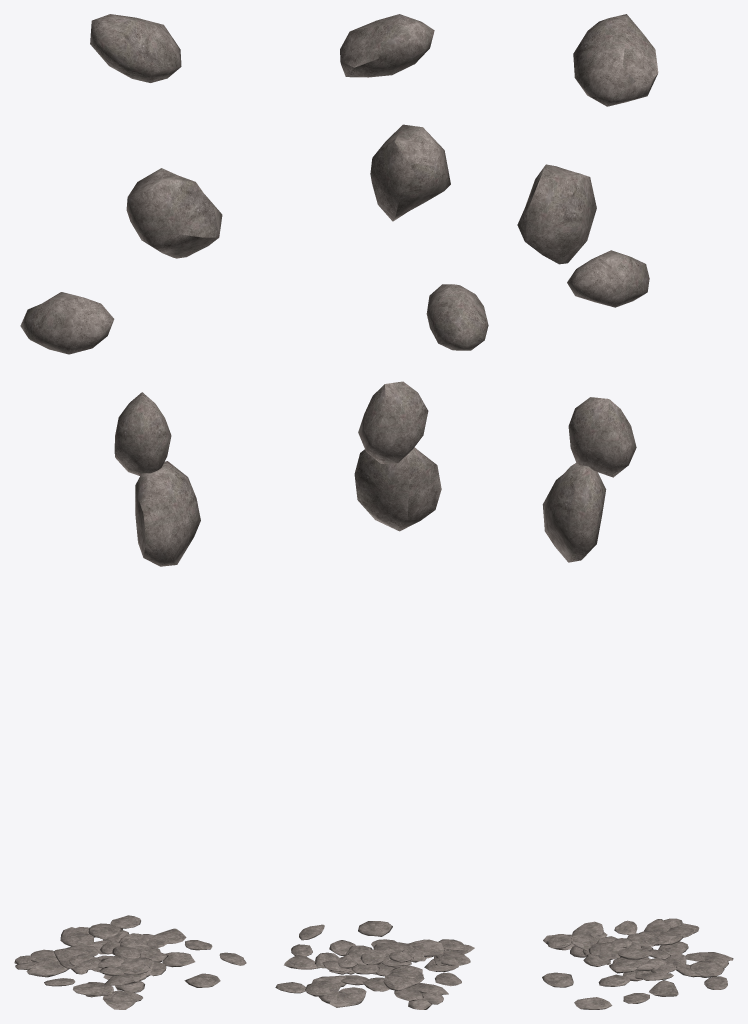
The model's file is PAV-BAS-004_anim.glb.
3 renders of one model, left to right at view 1: azimuth 30°, elevation 25°; view 2: azimuth 150°, elevation 25°; view 3: azimuth 270°, elevation 25°, orthographic. The views are drawn at different scales.
Visible parts, largest first — view 1: PAV-BAS-004_anim_monte, PAV-BAS-004_anim_t3, PAV-BAS-004_anim_t0, PAV-BAS-004_anim_t4, PAV-BAS-004_anim_t2, PAV-BAS-004_anim_t1; view 2: PAV-BAS-004_anim_monte, PAV-BAS-004_anim_t3, PAV-BAS-004_anim_t0, PAV-BAS-004_anim_t4, PAV-BAS-004_anim_t1, PAV-BAS-004_anim_t2; view 3: PAV-BAS-004_anim_monte, PAV-BAS-004_anim_t4, PAV-BAS-004_anim_t3, PAV-BAS-004_anim_t0, PAV-BAS-004_anim_t1, PAV-BAS-004_anim_t2.
Part boxes in pixels (x1,y1,x2,y2): PAV-BAS-004_anim_monte: [14, 915, 246, 1009]; PAV-BAS-004_anim_t3: [126, 168, 222, 258]; PAV-BAS-004_anim_t0: [135, 461, 200, 566]; PAV-BAS-004_anim_t4: [90, 14, 181, 82]; PAV-BAS-004_anim_t2: [20, 292, 114, 354]; PAV-BAS-004_anim_t1: [114, 392, 171, 475]; PAV-BAS-004_anim_monte: [275, 921, 474, 1009]; PAV-BAS-004_anim_t3: [370, 124, 450, 221]; PAV-BAS-004_anim_t0: [354, 447, 441, 531]; PAV-BAS-004_anim_t4: [340, 14, 434, 77]; PAV-BAS-004_anim_t1: [358, 381, 428, 463]; PAV-BAS-004_anim_t2: [426, 284, 488, 350]; PAV-BAS-004_anim_monte: [542, 918, 733, 1009]; PAV-BAS-004_anim_t4: [573, 14, 658, 106]; PAV-BAS-004_anim_t3: [517, 164, 596, 264]; PAV-BAS-004_anim_t0: [542, 463, 606, 562]; PAV-BAS-004_anim_t1: [568, 397, 636, 477]; PAV-BAS-004_anim_t2: [567, 250, 649, 307].
Bounding box in the file's own units: 0.3588 × 1.65 × 0.3458.
Materials: 1 (1 with a texture image).
